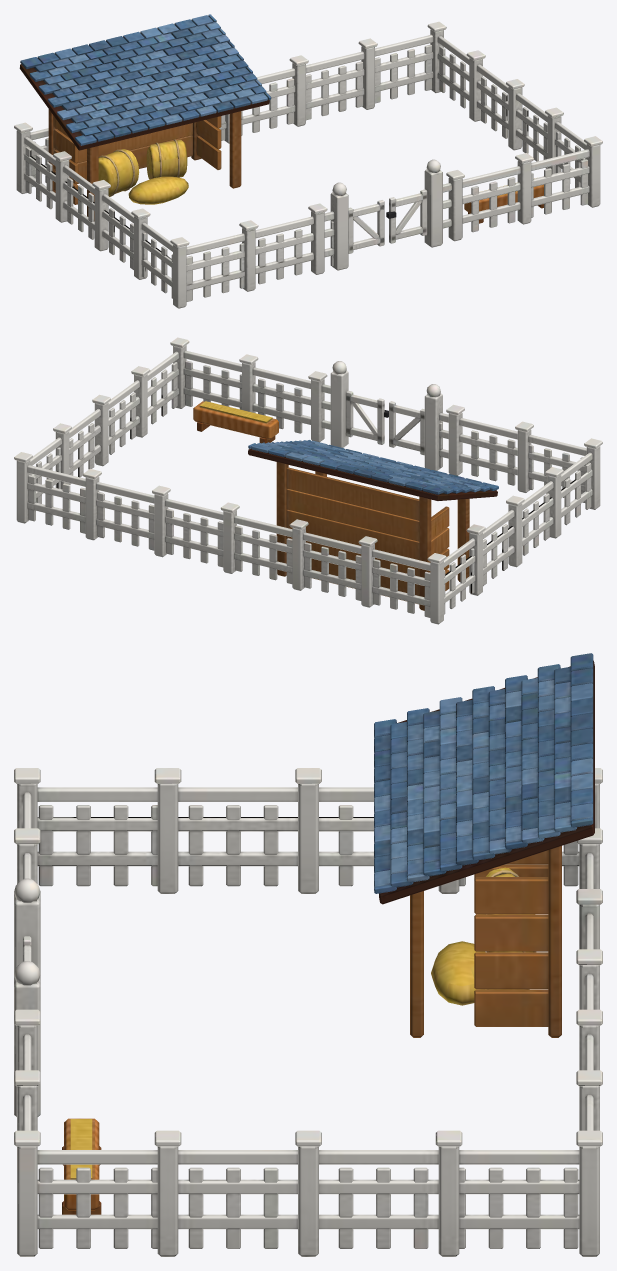
File: merino_fold.glb
3 views of the same model, one above another, from view 1: azimuth 30°, elevation 25°; view 2: azimuth 150°, elevation 25°; view 3: azimuth 270°, elevation 25° (orthographic). The views are drawn at different scales.
Visible parts, largest first — view 1: merino_fold, gate1, gate0; view 2: merino_fold, gate1, gate0; view 3: merino_fold.
Boxes of the visible parts, bbox=[...] form: merino_fold: bbox=[14, 14, 602, 308]; gate1: bbox=[386, 189, 427, 243]; gate0: bbox=[348, 200, 384, 253]; merino_fold: bbox=[14, 337, 602, 624]; gate1: bbox=[346, 390, 388, 444]; gate0: bbox=[389, 401, 424, 455]; merino_fold: bbox=[14, 653, 602, 1256].
Size of the model in its own units: 2.99 by 0.9342 by 1.99.
Materials: 1 (1 with a texture image).
